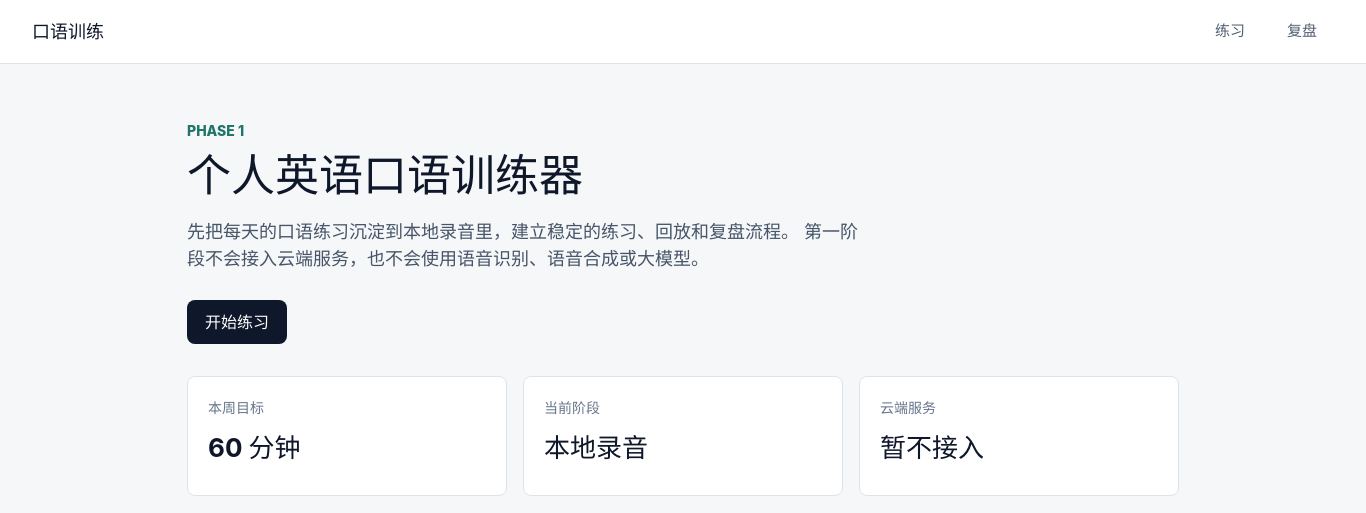
Test: App routes › navigates to the review page from the top nav
Click the link "复盘". click: (1302, 31)
box: x1=1287 y1=21 x2=1317 y2=40
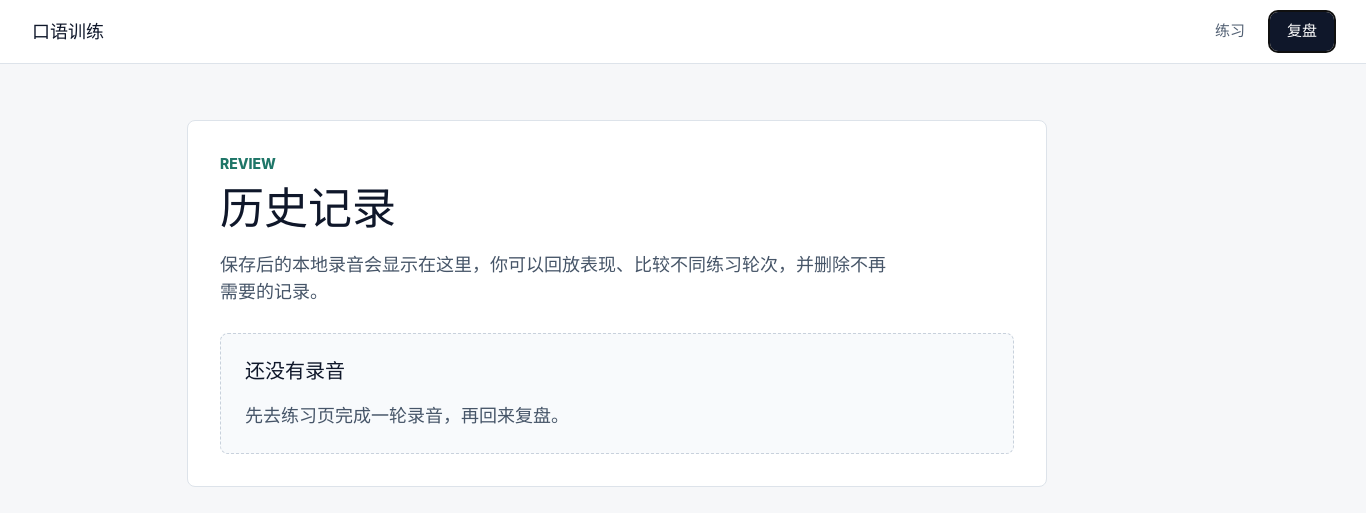
expect the heading "历史记录" is shown: met, box x1=220 y1=181 x2=396 y2=235
